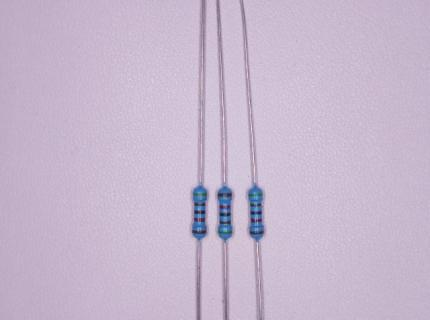Black band: (219, 213, 231, 217), (194, 210, 205, 214), (251, 211, 262, 214)
Brown band: (218, 192, 231, 197), (193, 229, 206, 234), (250, 230, 264, 234), (194, 202, 205, 206), (220, 220, 231, 224), (251, 203, 261, 207)
Green band: (248, 193, 263, 196), (193, 193, 207, 196), (218, 231, 232, 234)
Red band: (219, 205, 231, 209), (251, 218, 262, 222), (194, 218, 205, 222)
